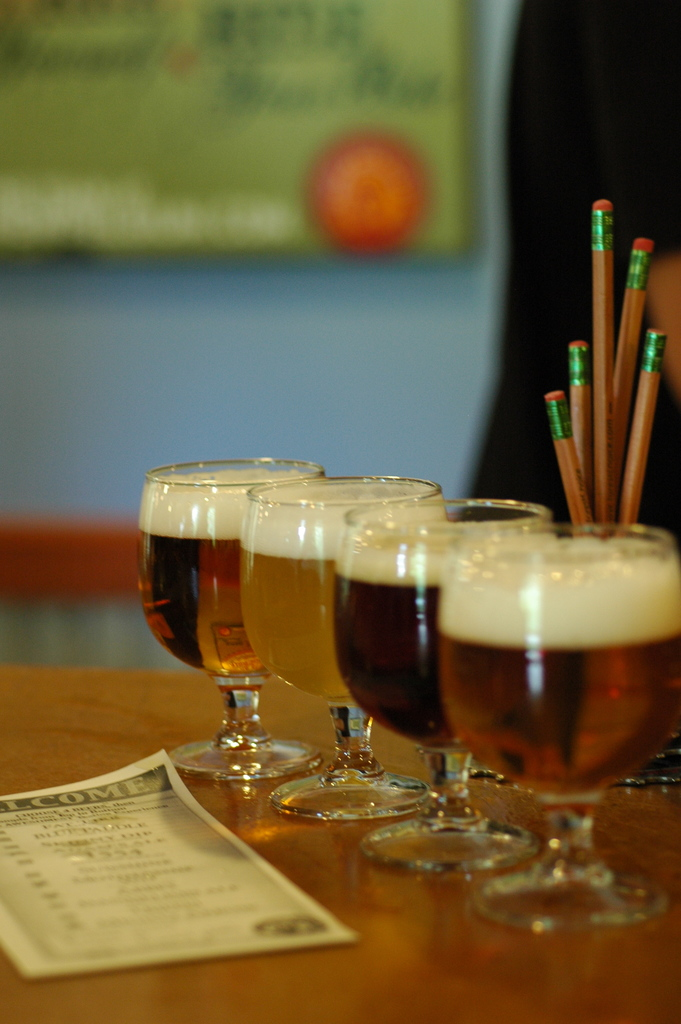Beer: (134, 469, 677, 796)
